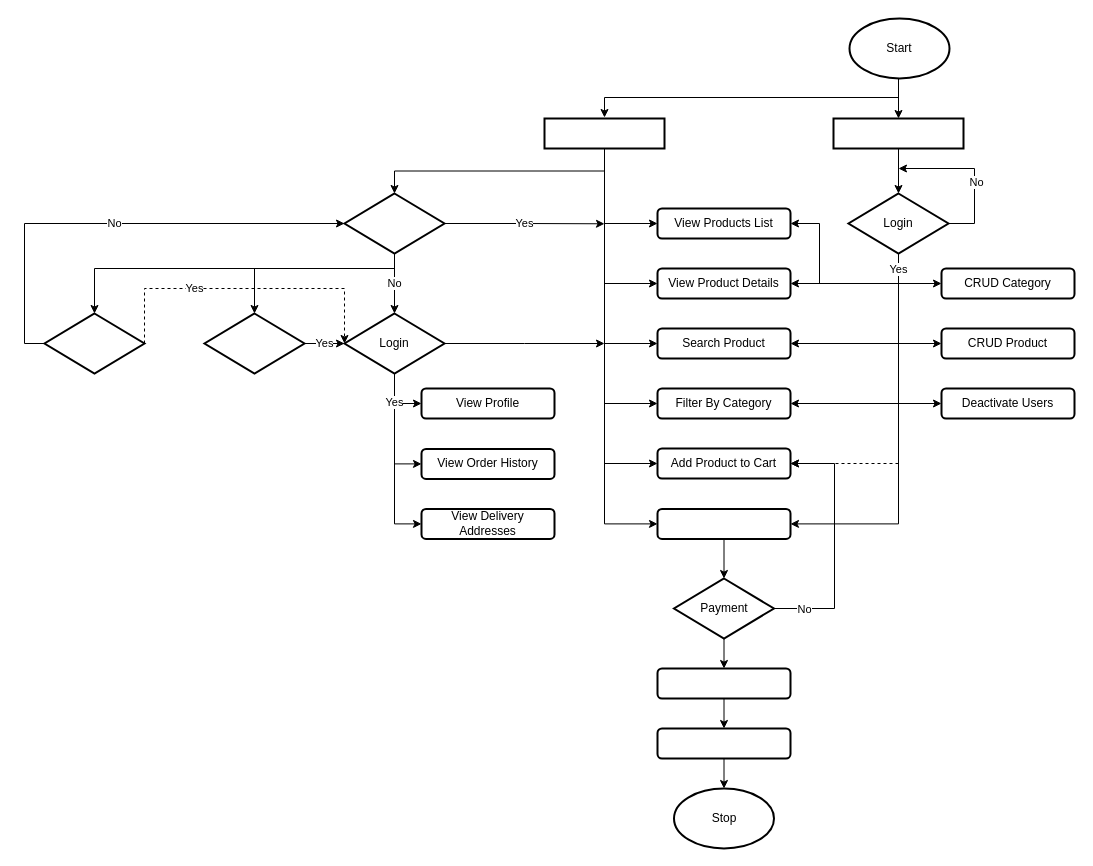
Some shapes in this 1093 by 866 pixel diagram are drawn without their labels. Here are the shapes that lost their labels. From the top down, the centre of each, then its label:
the point at 604,133: Unauthenticated User
the point at 898,133: Admin / Store Manager
the point at 394,223: Continue as Guest
the point at 94,343: Register
the point at 254,343: Reset Password
the point at 723,523: Checkout
the point at 723,683: Order Confirmation
the point at 723,743: Logout
